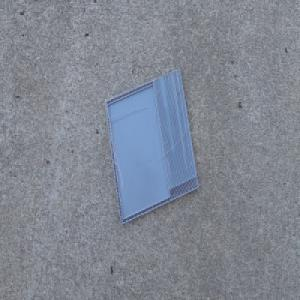PlasticPart: (104, 67, 199, 226)
